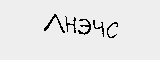Л: (44, 12, 64, 34)
Н: (65, 16, 78, 34)
С: (106, 21, 118, 40)
Ч: (94, 20, 106, 36)
Э: (76, 17, 92, 34)
